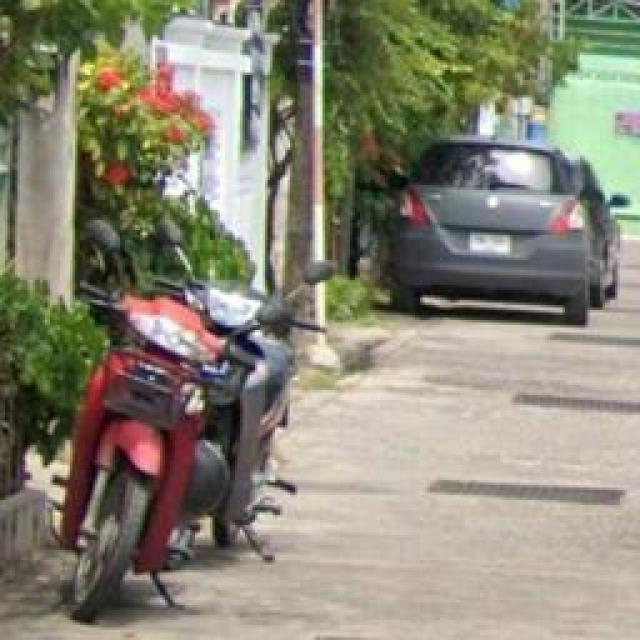car: (394, 136, 621, 327)
motorbike: (67, 220, 252, 620), (157, 218, 335, 503)
